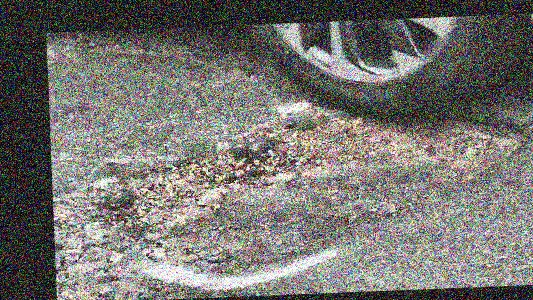pothole: (115, 97, 533, 251)
